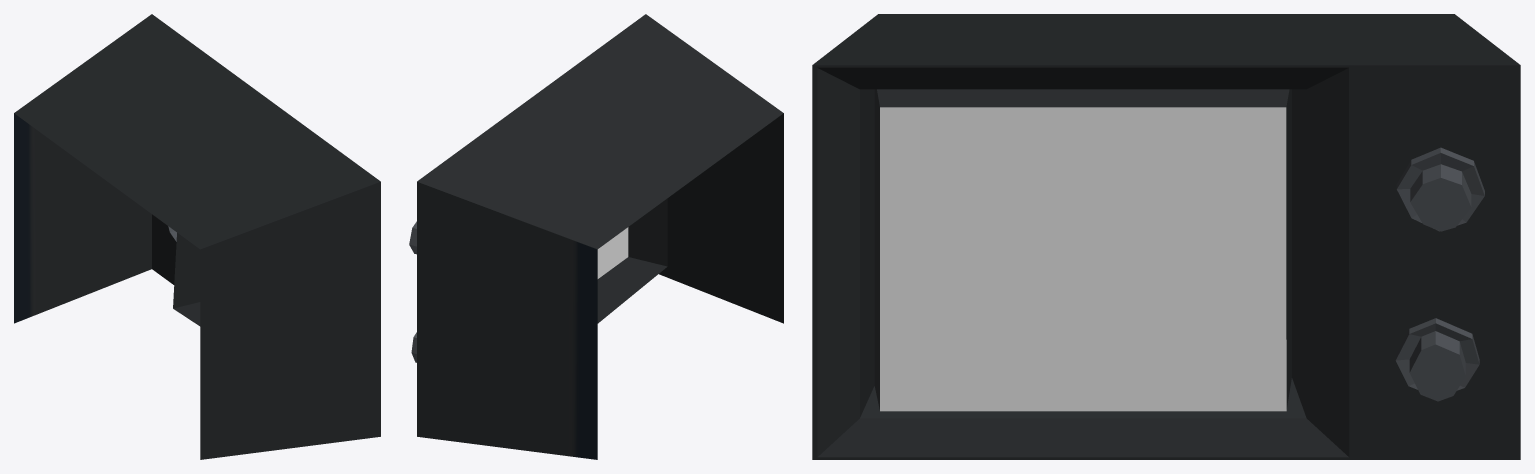
3 renders of one model, left to right at view 1: azimuth 30°, elevation 25°; view 2: azimuth 150°, elevation 25°; view 3: azimuth 270°, elevation 25°, orthographic. The views are drawn at different scales.
Parts seen in each view (by area): view 1: Cube; view 2: Cube; view 3: Cube.
Part boxes in pixels (x1,y1,x2,y2): Cube: [14, 14, 380, 459]; Cube: [409, 14, 783, 459]; Cube: [812, 14, 1520, 459].
Size of the model in its own units: 98.98 by 132 by 215.
Materials: 1 (1 with a texture image).
